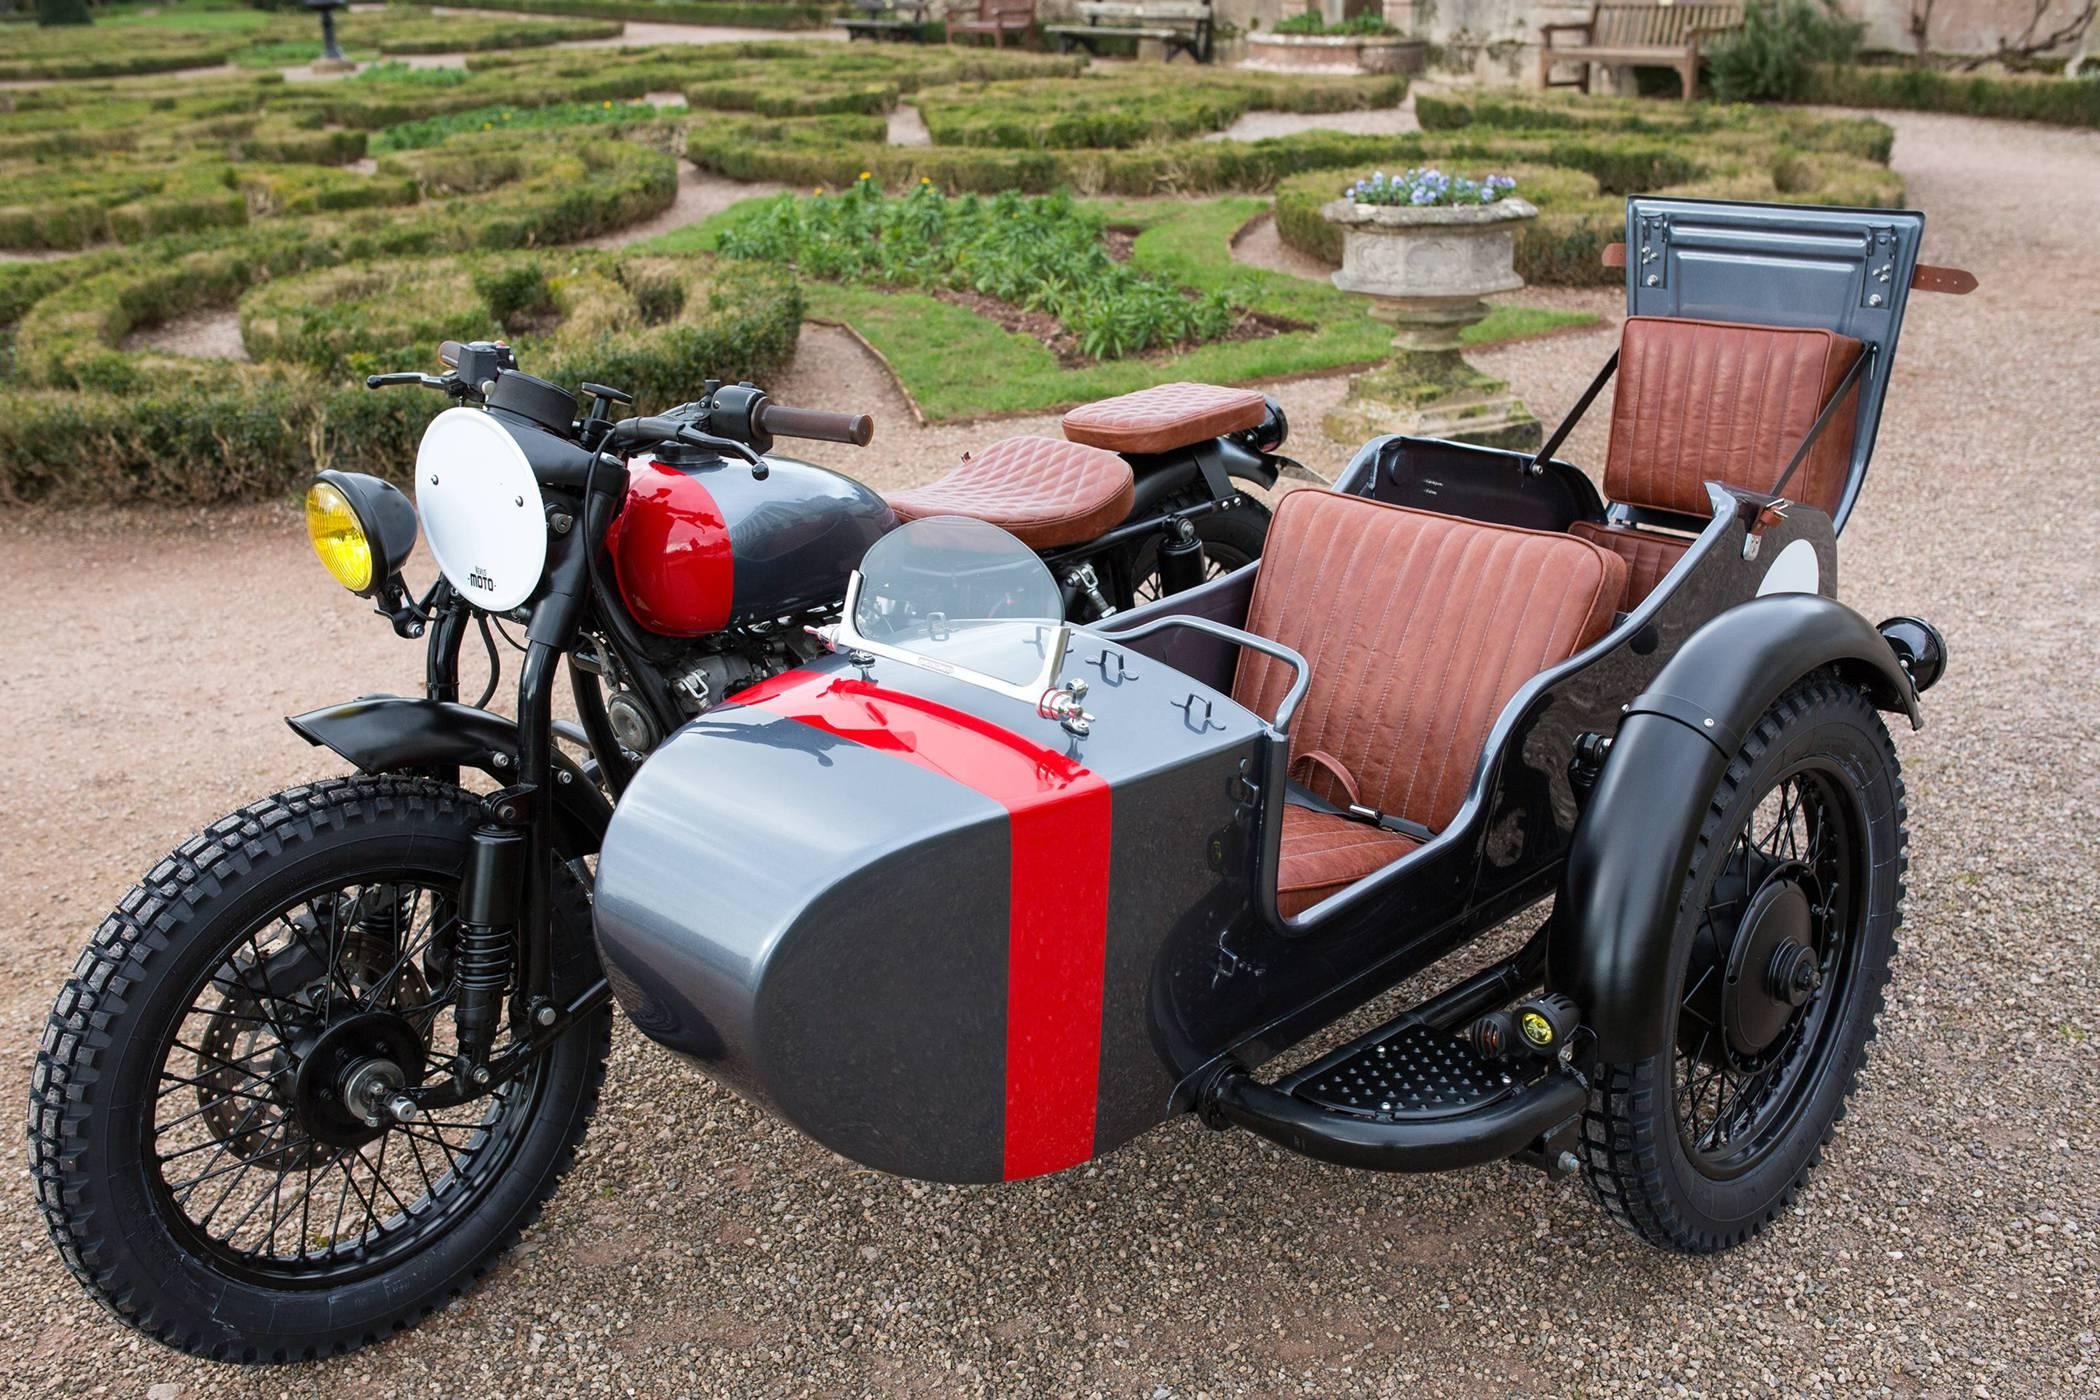Motorcycle: (94, 159, 1956, 1308)
